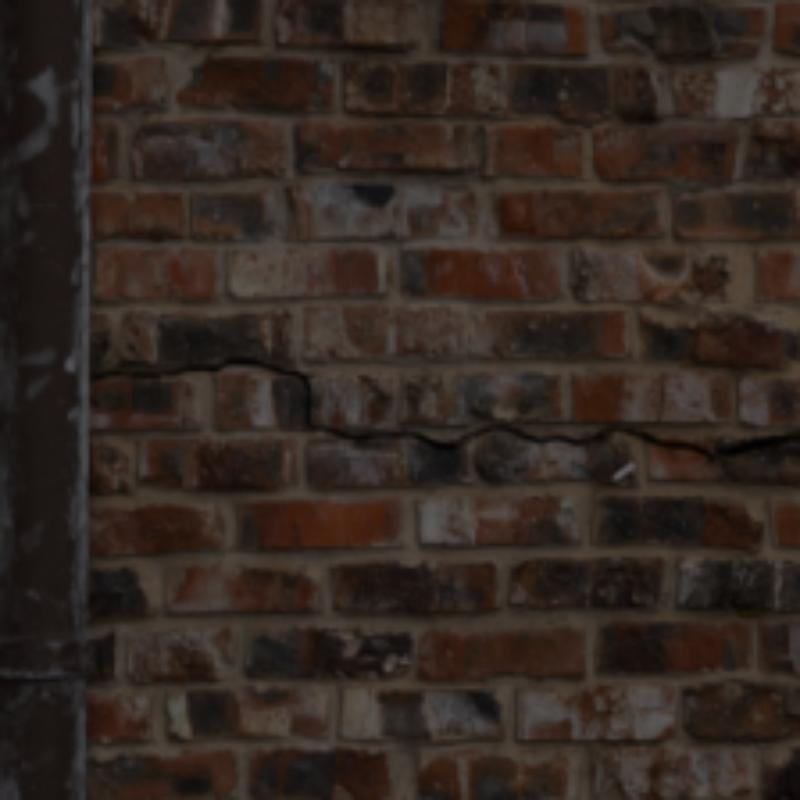pothole: (89, 357, 526, 446), (541, 425, 796, 457), (657, 379, 668, 421)
